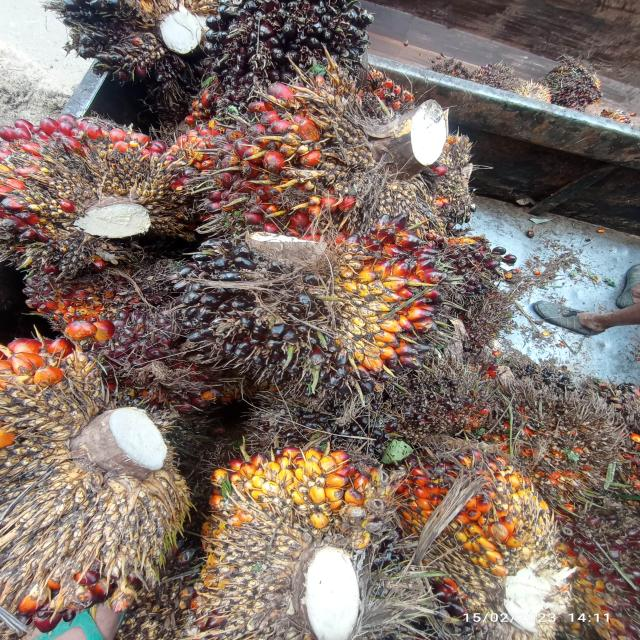fraksi 00: (136, 212, 488, 416), (190, 0, 393, 103)
fraksi 3: (161, 57, 533, 252), (0, 101, 175, 287)
fraksi 4: (390, 421, 605, 640)
